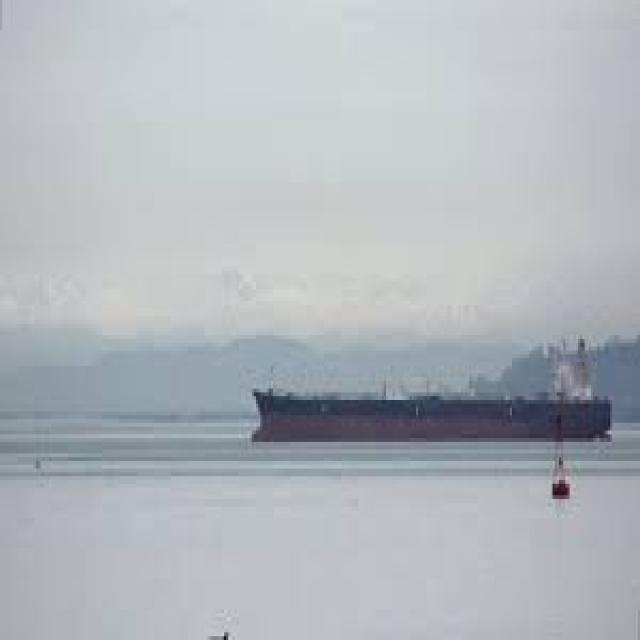cargoship: (245, 329, 616, 449)
